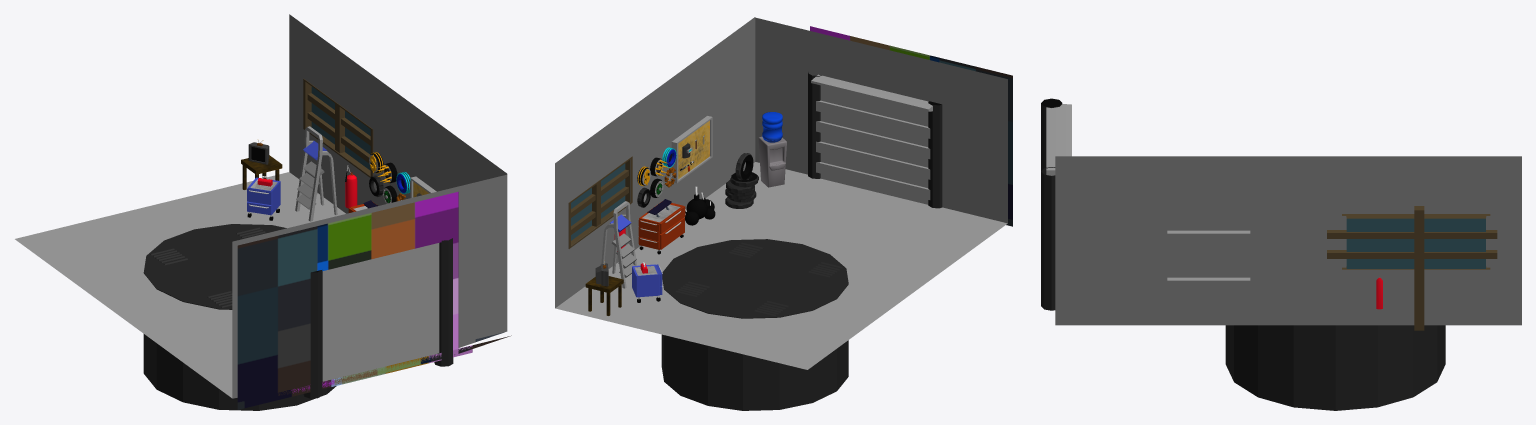
File: MecanicoInterior.fbx
3 views of the same model, side by side, from view 1: azimuth 30°, elevation 25°; view 2: azimuth 150°, elevation 25°; view 3: azimuth 270°, elevation 25° (orthographic). The views are drawn at different scales.
Visible parts, largest first — view 1: Interior; view 2: Interior, CorpoDoBebedouro, Galao; view 3: Interior.
Part boxes in pixels (box(x1,y1,x2,y2)): Interior: box(15, 14, 511, 410); Interior: box(555, 17, 1012, 410); CorpoDoBebedouro: box(758, 136, 786, 187); Galao: box(762, 112, 782, 142); Interior: box(1041, 98, 1521, 410).
Size of the model in its own units: 753 by 644 by 1015.
Materials: 3 (1 with a texture image).
